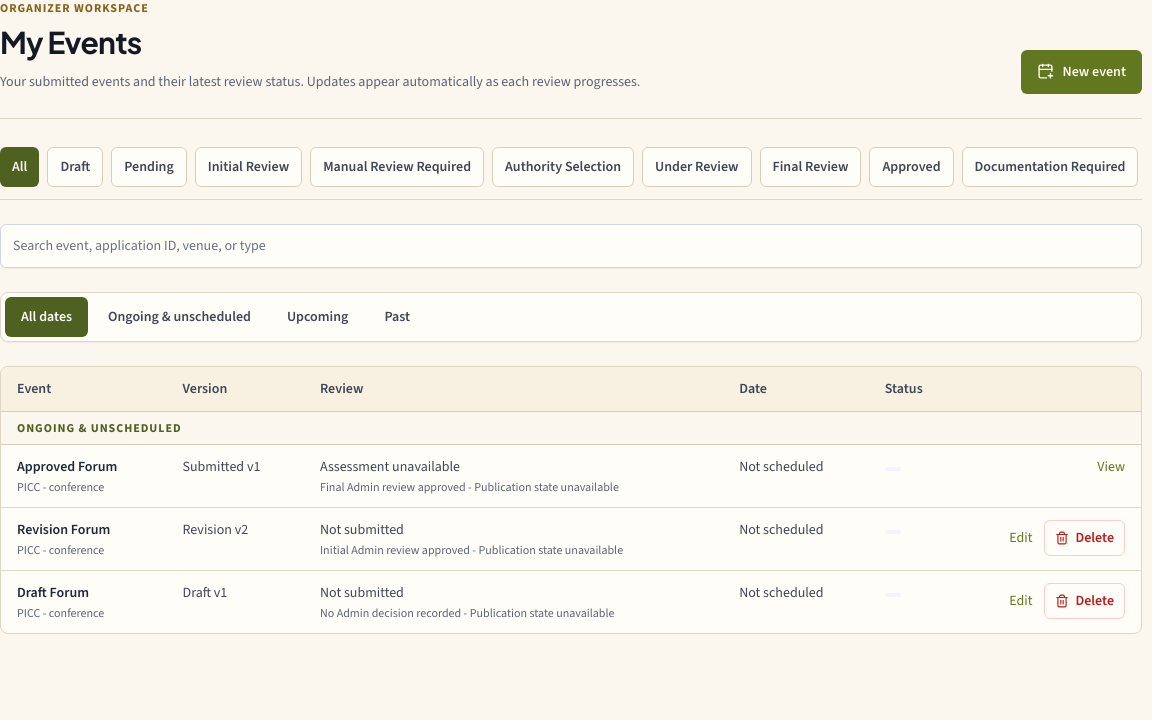
it: MyEvents › warns that a revision Draft also removes prior history and deletes the item after success
Click the button with aria-label "Delete Revision Forum" at (1085, 538), box [1044,520,1125,556]
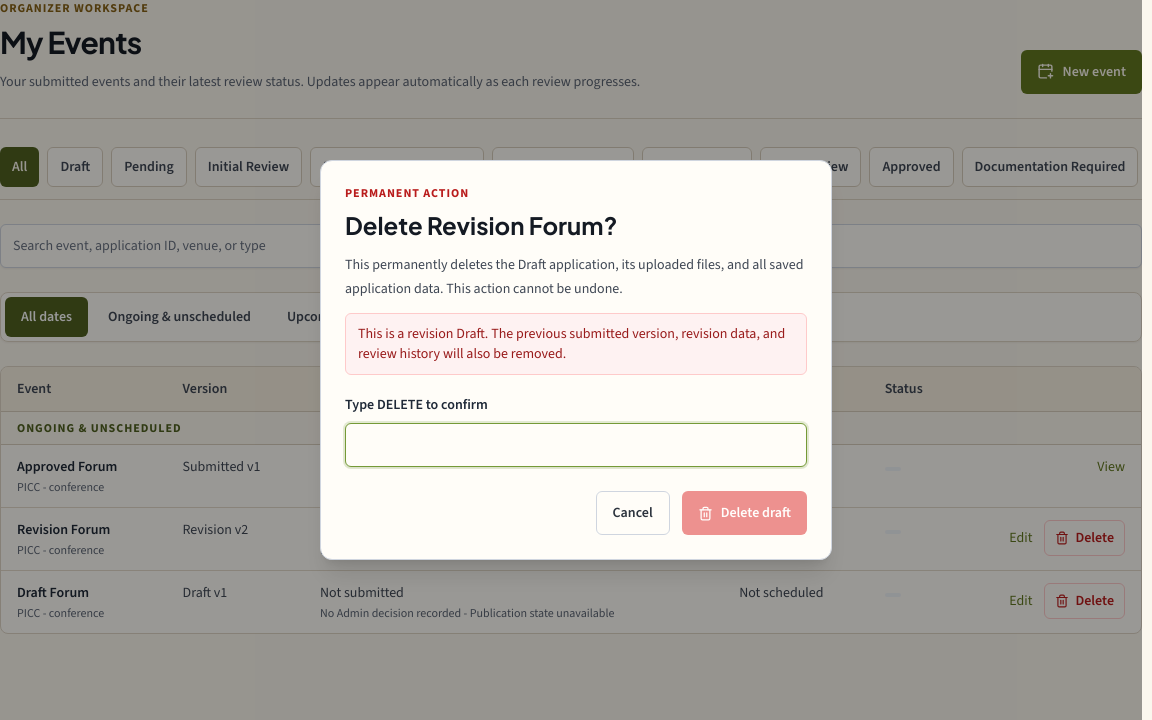
Expected: the text "previous submitted version, revision data, and review history" is shown, [358,324,785,363]
Type "DELETE" into the field labelled "Type DELETE to confirm" at (576, 445), box [345,423,807,467]
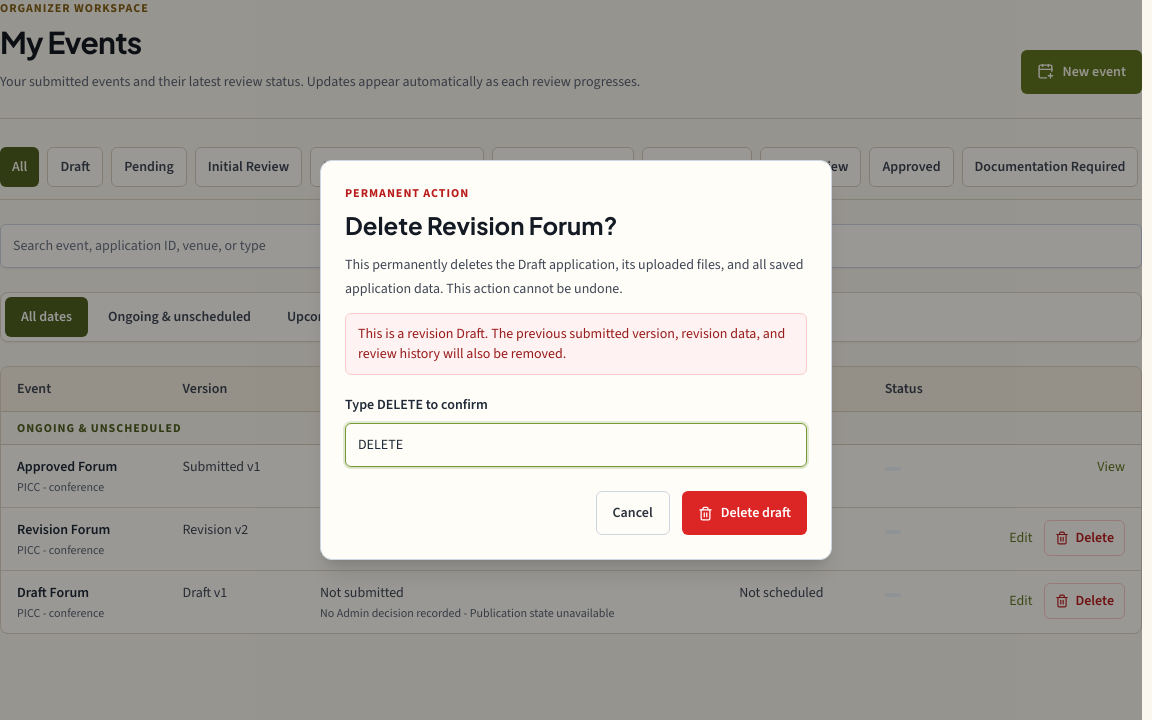
Click the button "Delete draft" at (744, 513), box [682,491,807,535]
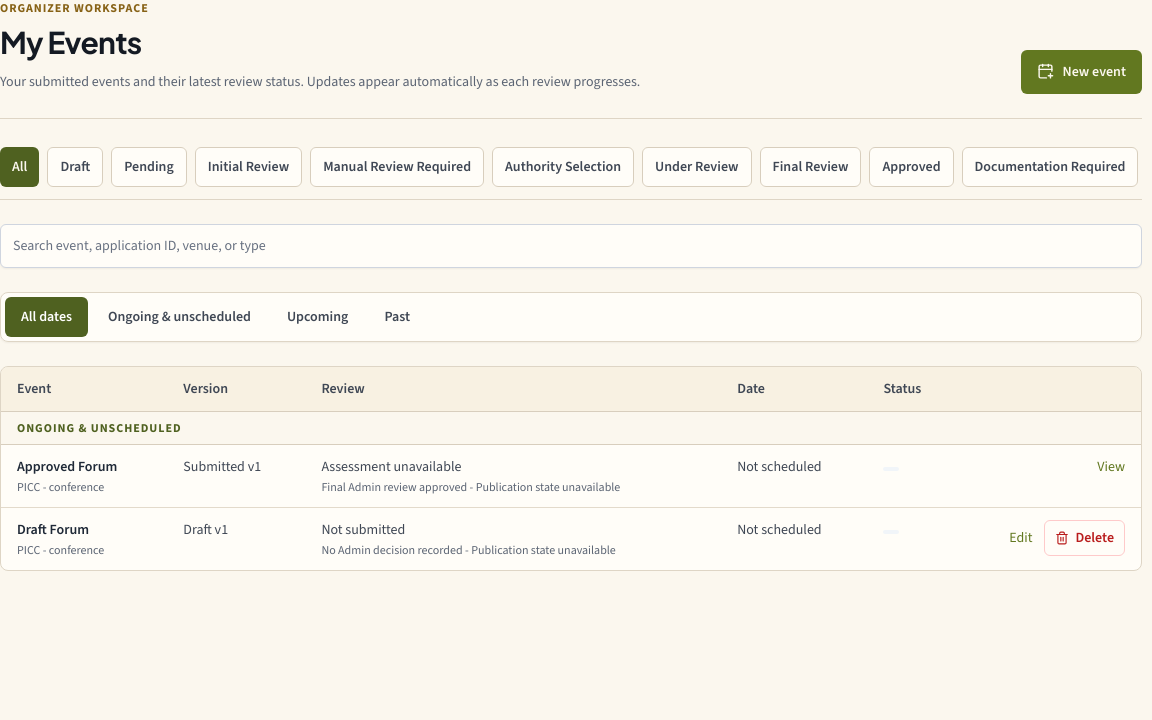
Expected: the text "Revision Forum" is not shown
